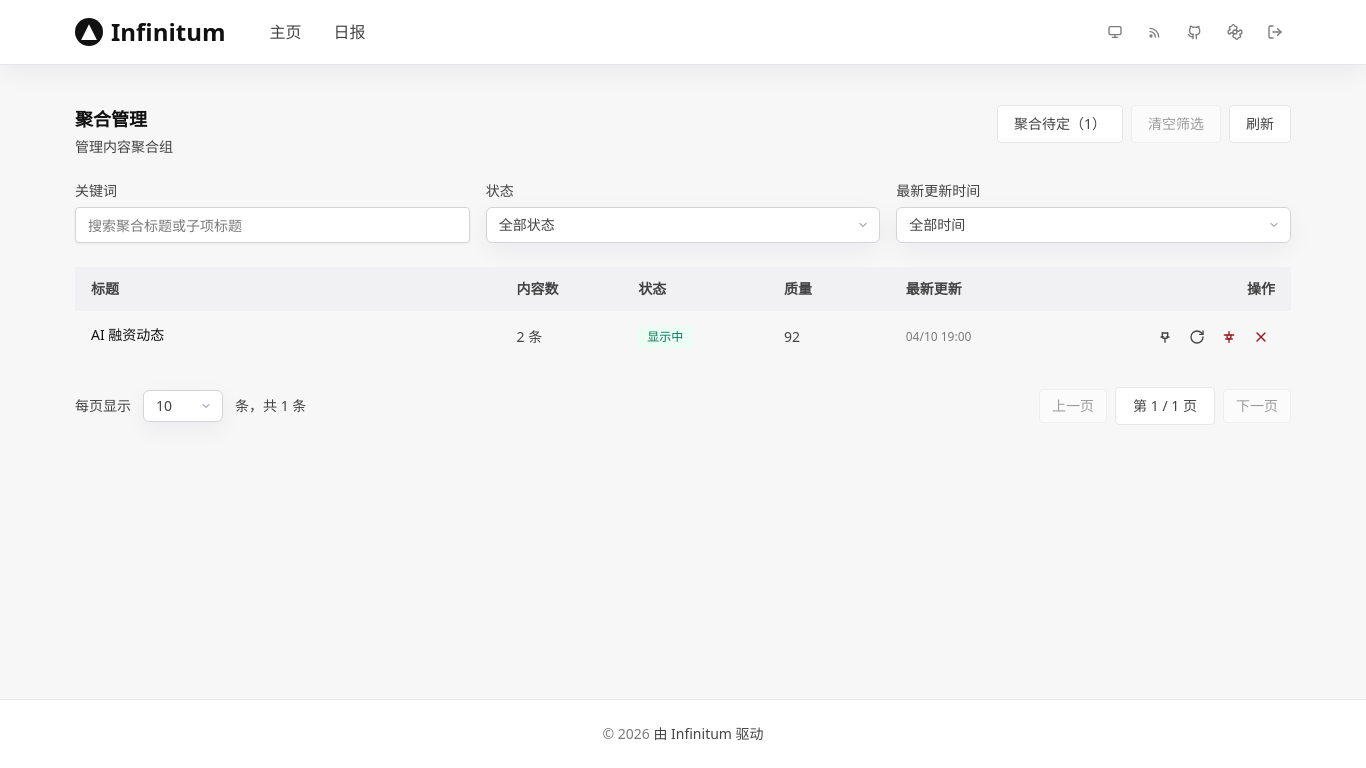
ContentReviewPanel › ignores a cluster review candidate from the review queue
Click the button "聚合待定（1）": (1060, 124) left=997, top=105, right=1123, bottom=143
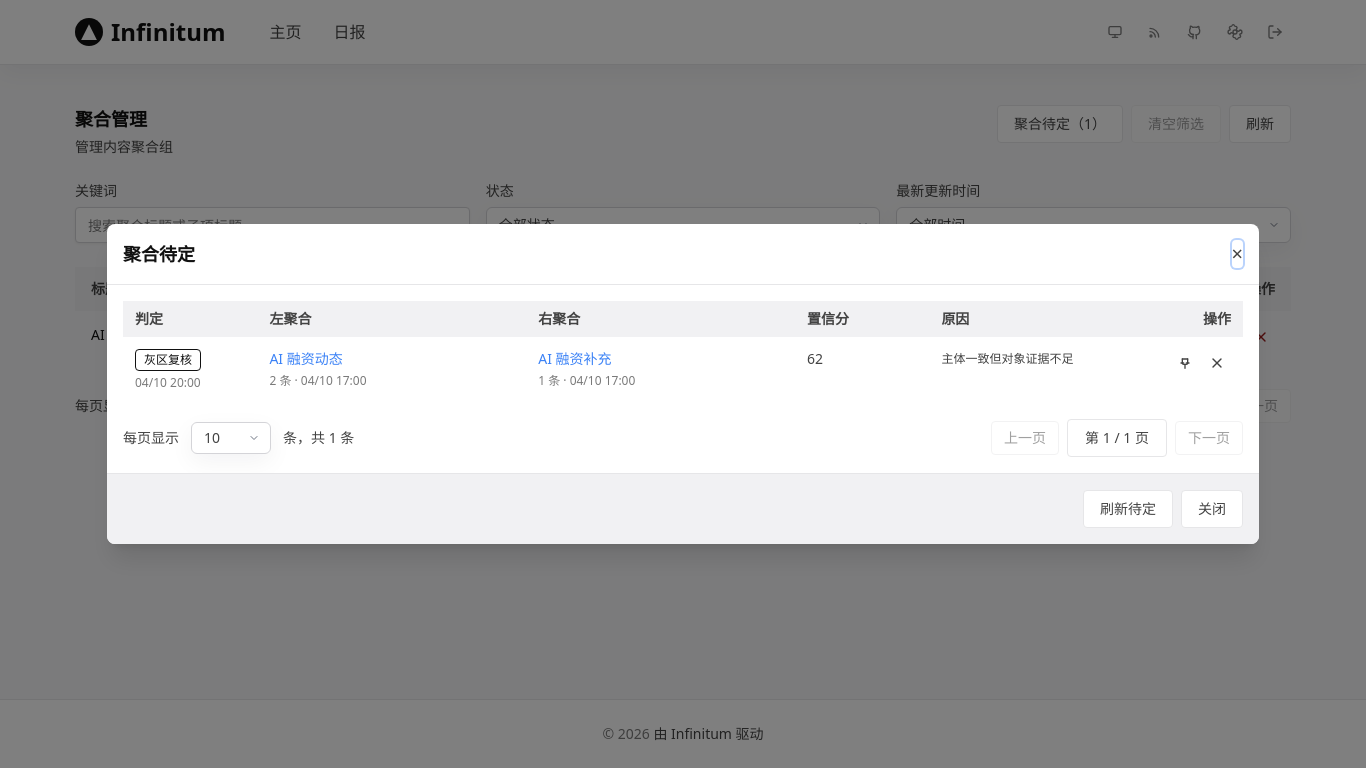
Expected: the text "主体一致但对象证据不足" is shown, left=929, top=337, right=1131, bottom=403
Click the button named "忽略待定": (1217, 363) left=1203, top=349, right=1231, bottom=377
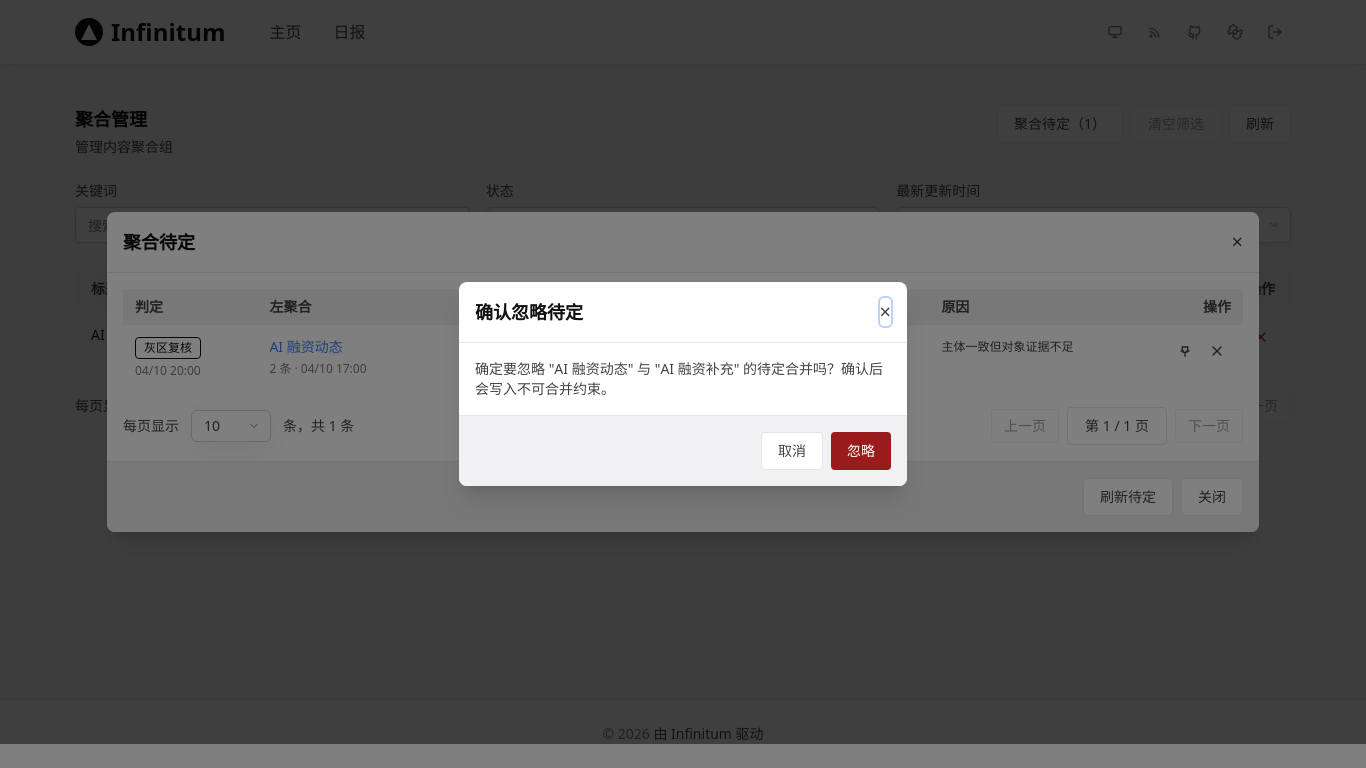
Expected: the dialog "确认忽略待定" is shown, left=459, top=282, right=907, bottom=486
Click the button "忽略": (861, 451) left=831, top=432, right=891, bottom=470
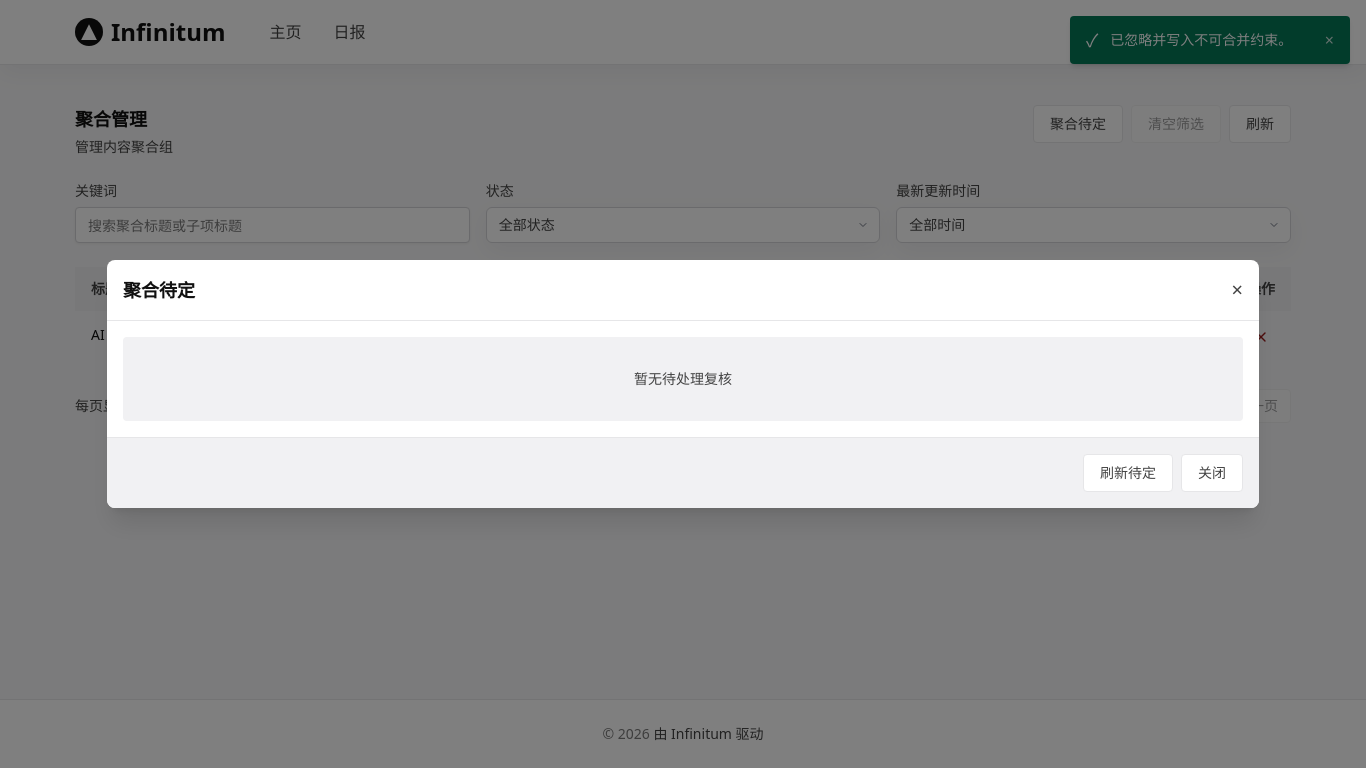
Expected: the text "主体一致但对象证据不足" is gone
Expected: the message shows "已忽略并写入不可合并约束。", left=1110, top=30, right=1292, bottom=49
